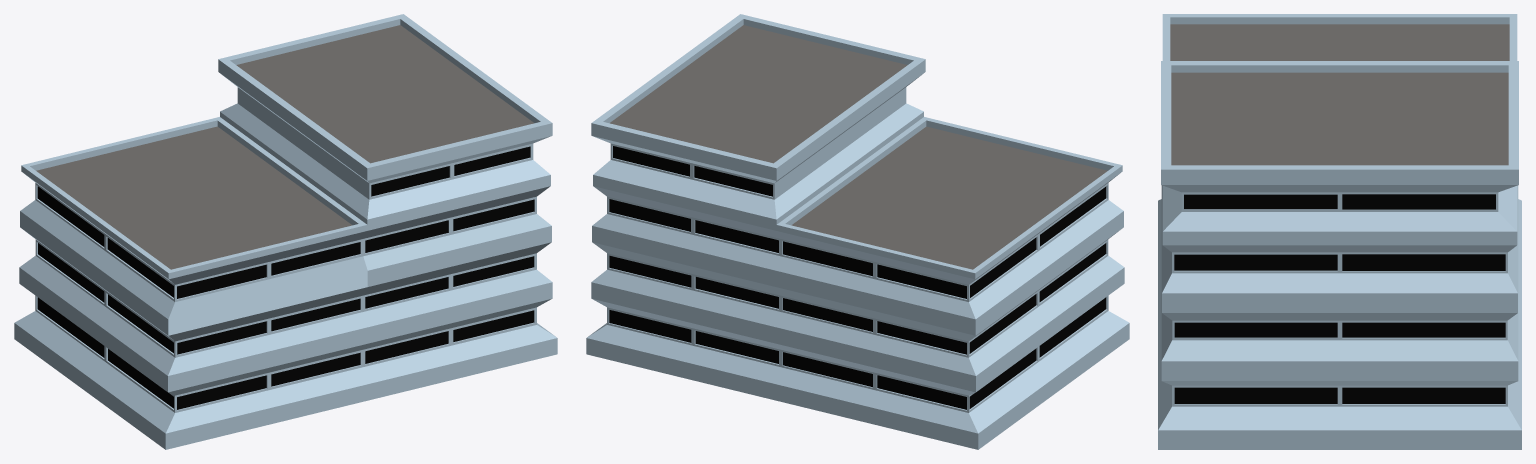
The model's file is 22222OOFICIICICICIC.fbx.
3 renders of one model, left to right at view 1: azimuth 30°, elevation 25°; view 2: azimuth 150°, elevation 25°; view 3: azimuth 270°, elevation 25°, orthographic. The views are drawn at different scales.
Parts seen in each view (by area): view 1: building 1; view 2: building 1; view 3: building 1.
Part boxes in pixels (x1=…): building 1: x1=14, y1=14, x2=557, y2=449; building 1: x1=586, y1=14, x2=1129, y2=449; building 1: x1=1158, y1=14, x2=1521, y2=449.
Size of the model in its own units: 727 by 410 by 487.
